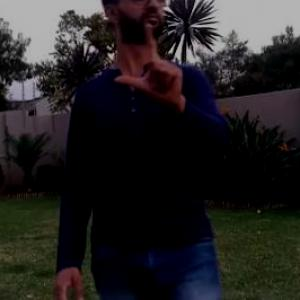land_hand: (109, 20, 192, 114)
